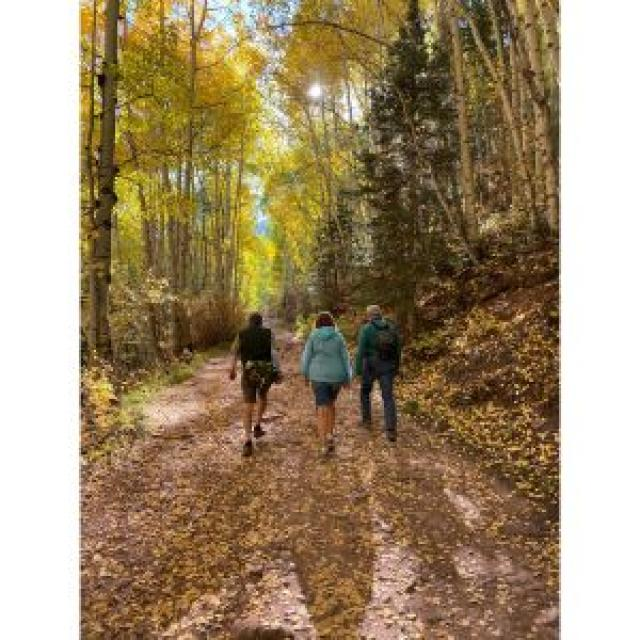nonfall: (352, 296, 414, 451), (228, 314, 286, 446), (302, 307, 350, 458)
